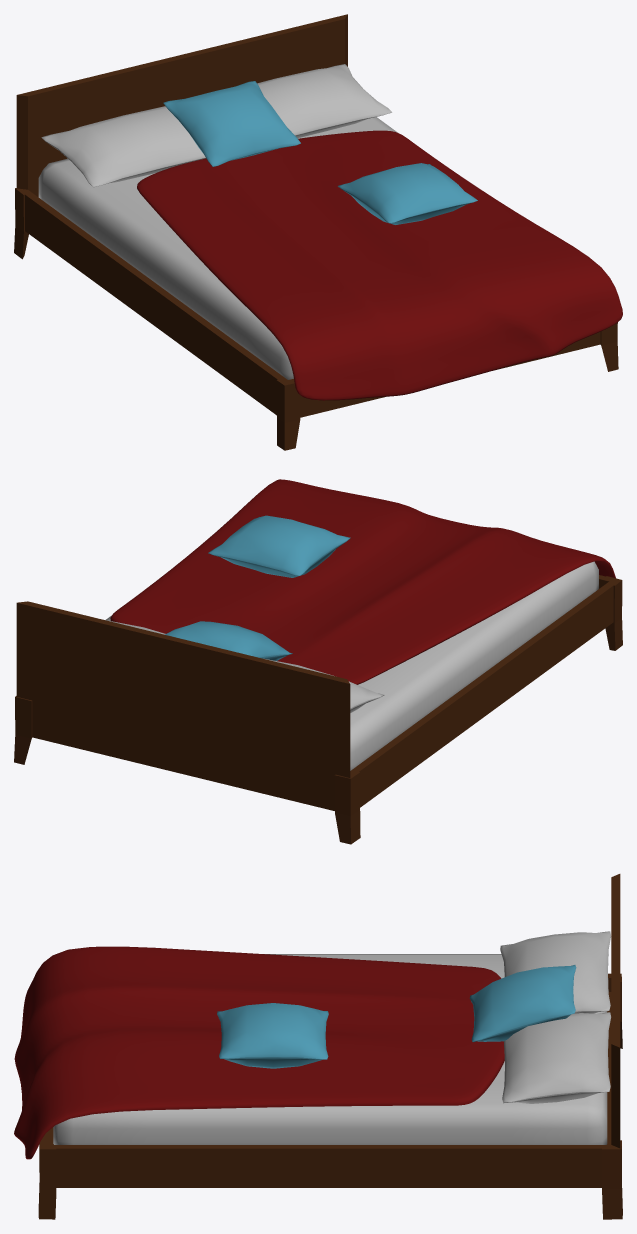
Rendered from Bed_v2.FBX.
3 views of the same model, one above another, from view 1: azimuth 30°, elevation 25°; view 2: azimuth 150°, elevation 25°; view 3: azimuth 270°, elevation 25° (orthographic). The views are drawn at different scales.
Parts seen in each view (by area): view 1: Blanket001, Base001, Mattress001, Pillow003, Pillow004, Pillow002, Pillow001; view 2: Base001, Blanket001, Mattress001, Pillow001, Pillow004, Pillow003; view 3: Blanket001, Base001, Mattress001, Pillow002, Pillow001, Pillow004, Pillow003.
Part boxes in pixels (x1,y1,x2,y2): Blanket001: (137, 130, 622, 400); Base001: (14, 14, 618, 450); Mattress001: (38, 117, 397, 379); Pillow003: (41, 106, 205, 187); Pillow004: (163, 81, 300, 166); Pillow002: (257, 64, 391, 138); Pillow001: (338, 163, 477, 224); Base001: (14, 575, 622, 844); Blanket001: (110, 479, 615, 684); Mattress001: (106, 561, 598, 770); Pillow001: (208, 515, 350, 577); Pillow004: (165, 621, 292, 660); Pillow003: (263, 658, 384, 712); Blanket001: (14, 946, 504, 1159); Base001: (38, 874, 622, 1219); Mattress001: (53, 954, 607, 1144); Pillow002: (502, 1012, 611, 1103); Pillow001: (217, 1003, 328, 1068); Pillow004: (469, 965, 576, 1042); Pillow003: (500, 931, 610, 1013).
Bounding box in the file's own units: 57.78 × 26.1 × 84.08.
